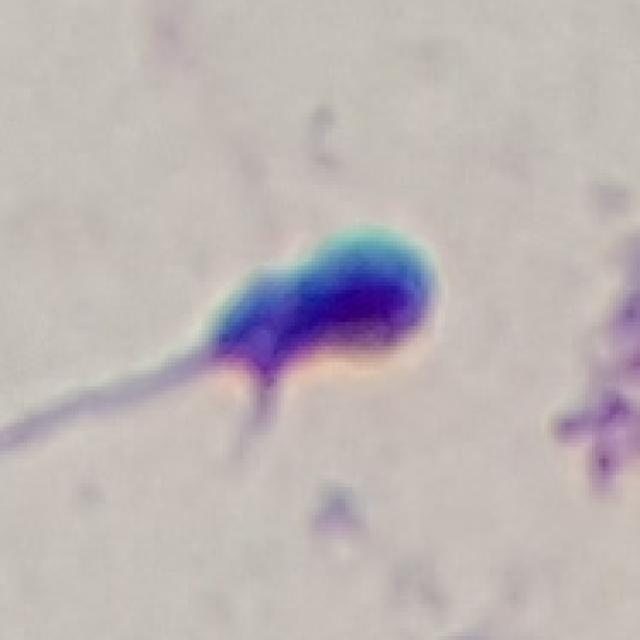abnormal sperm: (5, 192, 462, 502)
